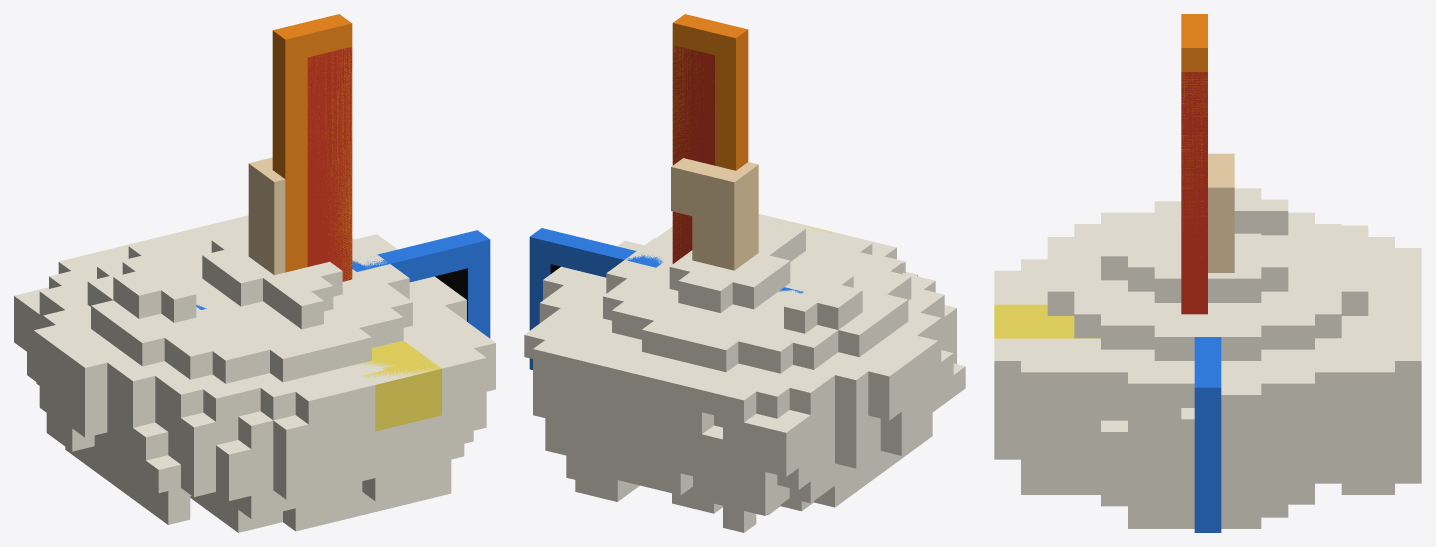
File: beer.glb
3 renders of one model, left to right at view 1: azimuth 30°, elevation 25°; view 2: azimuth 150°, elevation 25°; view 3: azimuth 270°, elevation 25°, orthographic. The views are drawn at different scales.
Parts seen in each view (by area): view 1: foam, beer-ring, foam (1), layer1, hence-main, w, foam-extra, layer2; view 2: foam, foam (1), beer-ring, hence-main, layer1, w, foam-extra; view 3: foam, foam (1), beer-ring, layer1, hence-main, w, foam-extra.
Boxes of the visible parts, x1,y1,x2,y2 form: foam: [33, 215, 495, 532]; beer-ring: [272, 14, 441, 431]; foam (1): [14, 217, 495, 513]; layer1: [196, 230, 490, 338]; hence-main: [248, 157, 285, 275]; w: [285, 24, 352, 280]; foam-extra: [132, 229, 464, 490]; layer2: [435, 268, 467, 321]; foam: [539, 214, 956, 514]; foam (1): [524, 214, 965, 532]; beer-ring: [672, 14, 831, 263]; hence-main: [671, 158, 758, 270]; layer1: [529, 228, 803, 369]; w: [672, 23, 735, 262]; foam-extra: [617, 361, 722, 508]; foam: [994, 188, 1421, 528]; foam (1): [994, 248, 1421, 528]; beer-ring: [994, 14, 1207, 338]; layer1: [1194, 337, 1221, 532]; hence-main: [1208, 153, 1234, 272]; w: [1181, 48, 1207, 256]; foam-extra: [994, 282, 1421, 459].
Size of the model in its own units: 18.5 by 18 by 16.
Materials: 13 (13 with a texture image).
